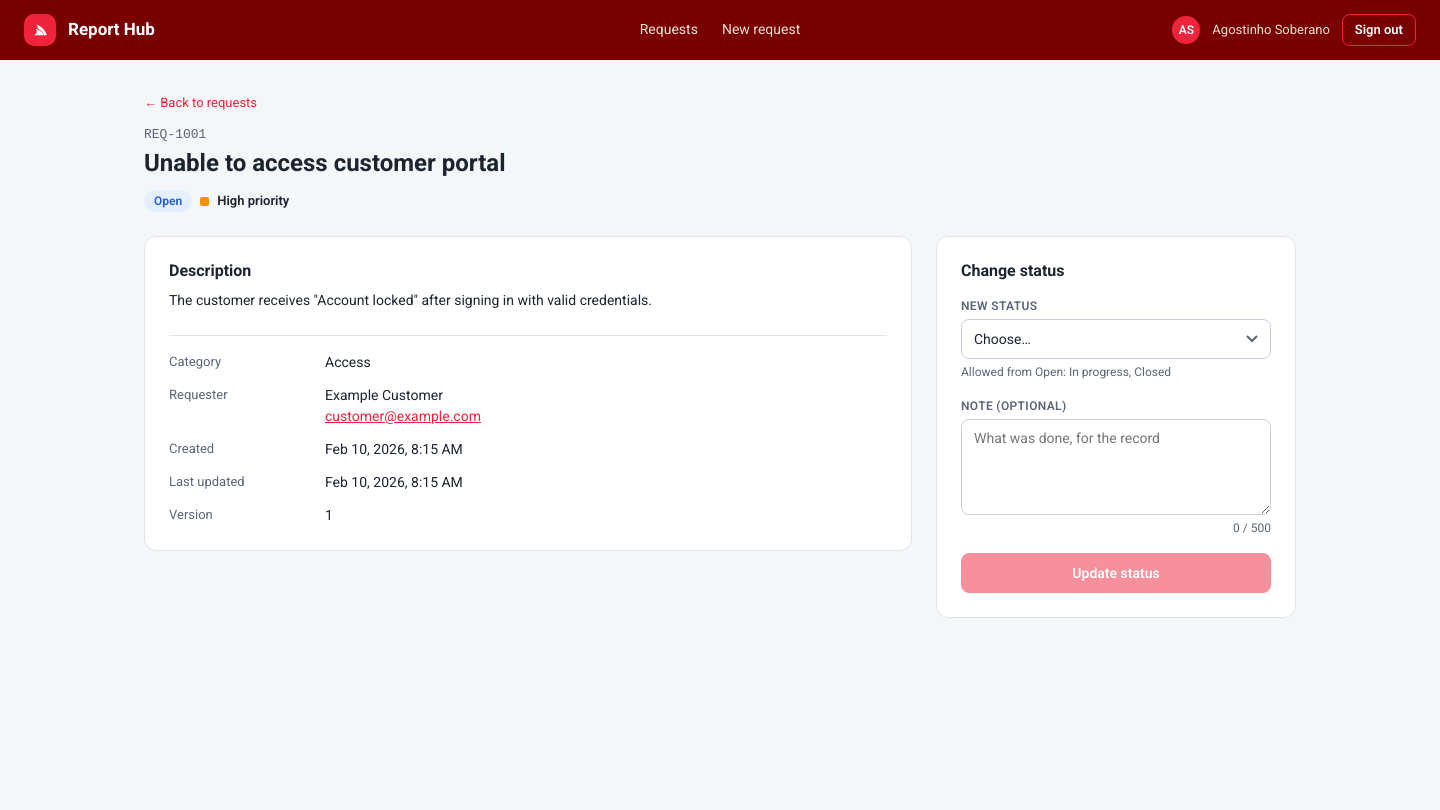
Scenario: request detail and status change › explains a 409 conflict and shows the latest version
Expected: the heading "Unable to access customer portal" is shown, x1=144 y1=149 x2=506 y2=177
Select "Closed" in the dropdown labelled "New status" at [1116, 339], box x1=961 y1=319 x2=1271 y2=359
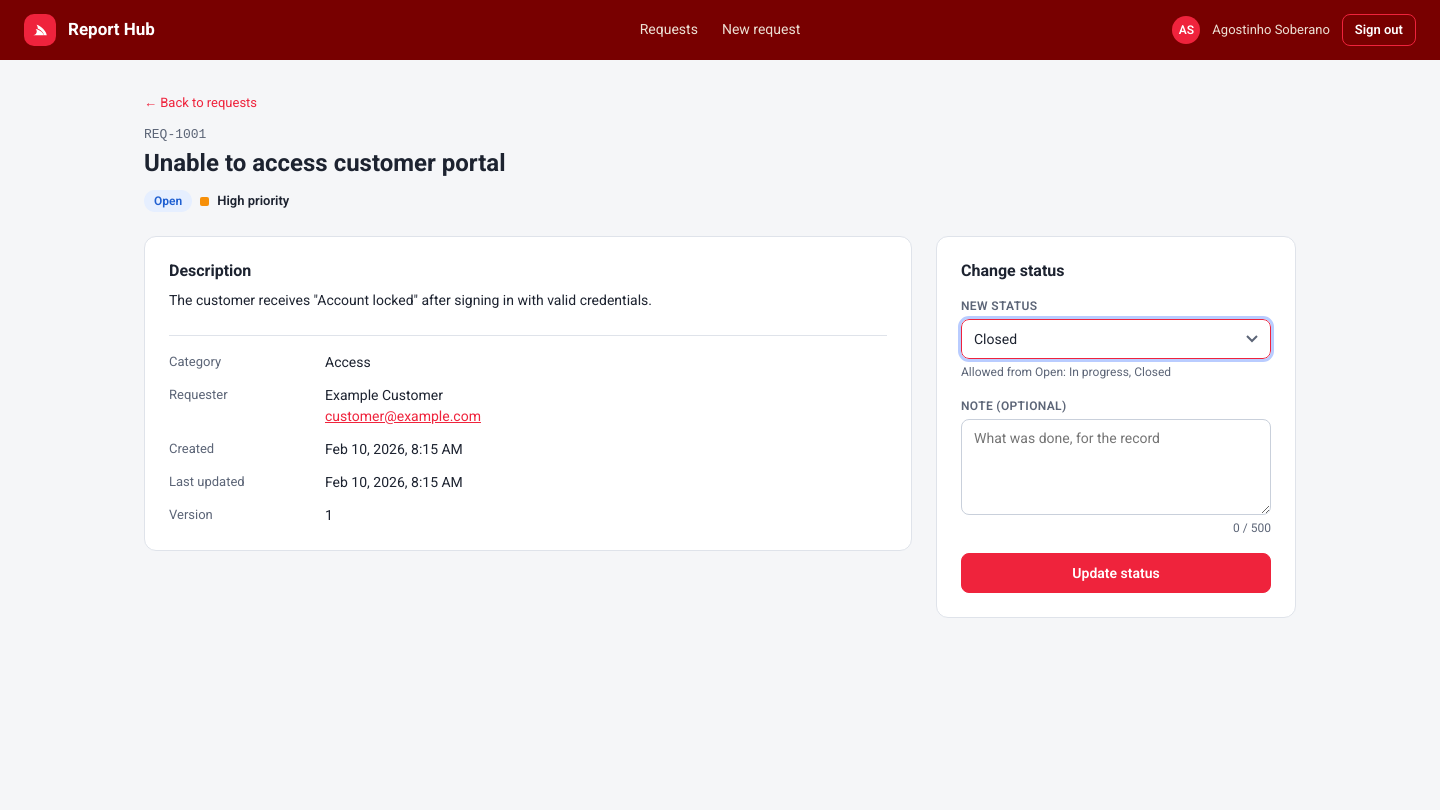
Click the button "Update status" at [1116, 573], box x1=961 y1=553 x2=1271 y2=593
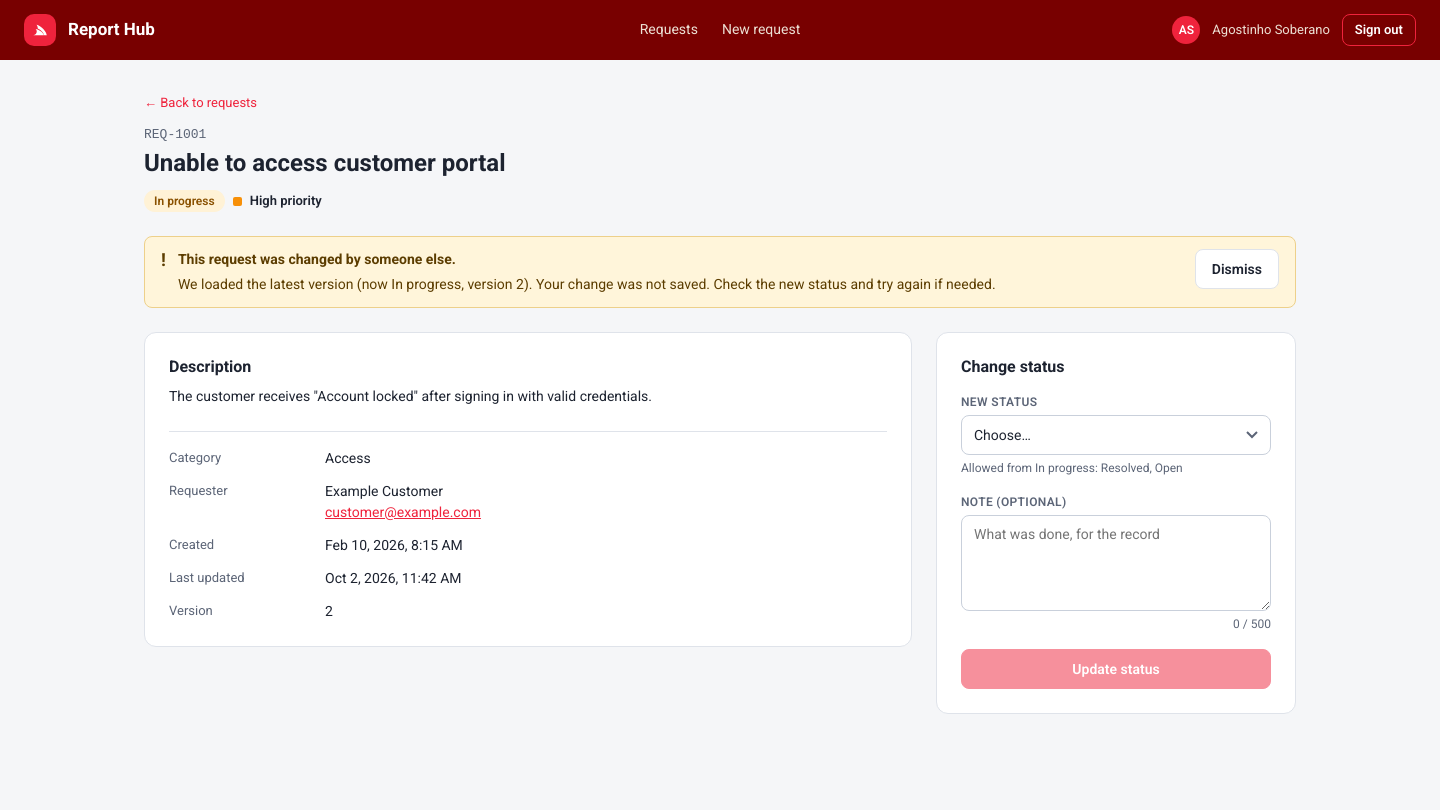
Expected: the text "This request was changed by someone else." is shown, x1=178 y1=251 x2=456 y2=267
Expected: the text "now In progress, version 2" is shown, x1=178 y1=276 x2=996 y2=292
